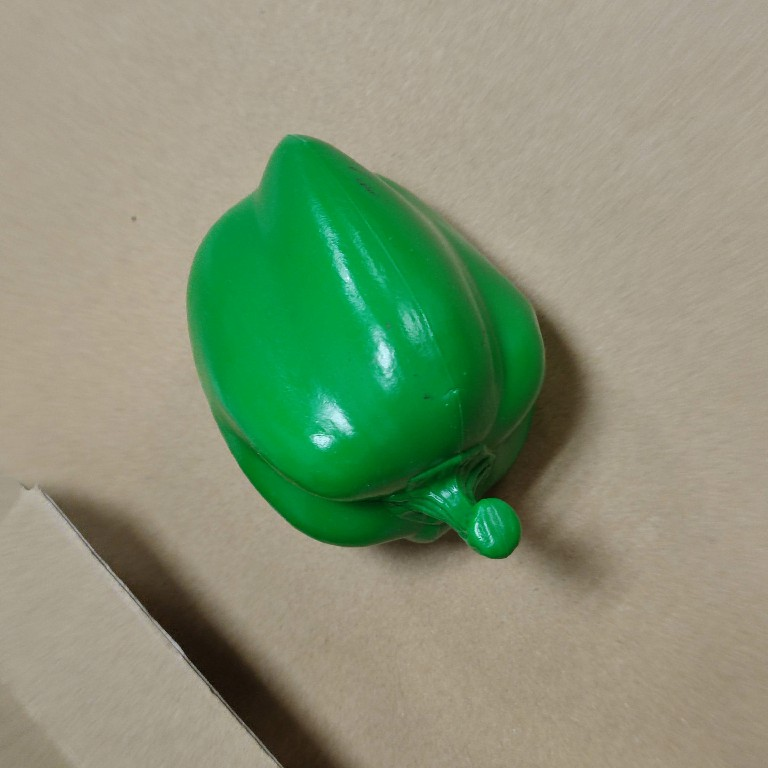fruit_pepper: (182, 128, 552, 564)
